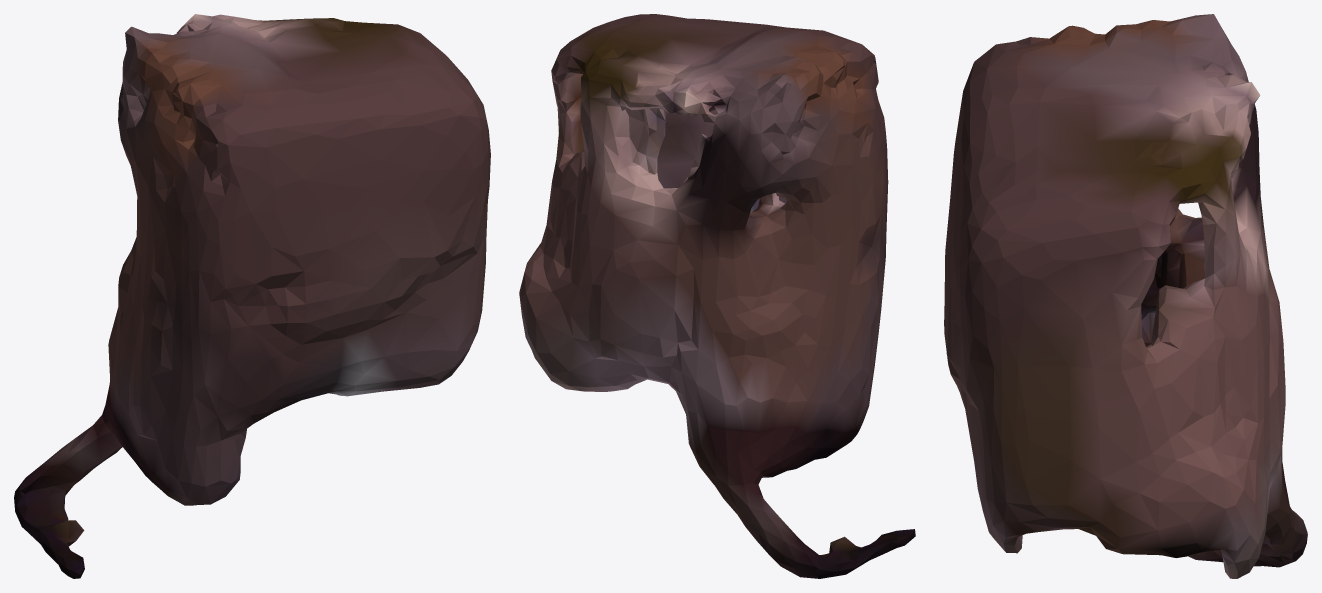
File: LivingRoom.obj
3 renders of one model, left to right at view 1: azimuth 30°, elevation 25°; view 2: azimuth 150°, elevation 25°; view 3: azimuth 270°, elevation 25°, orthographic. The views are drawn at different scales.
Bounding box in the file's own units: 231 × 289 × 162.
